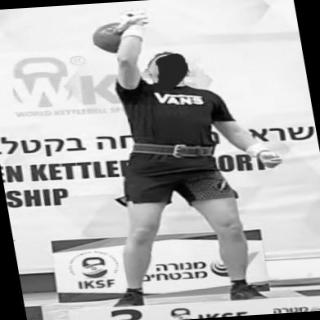kettlebell: (87, 9, 156, 55)
